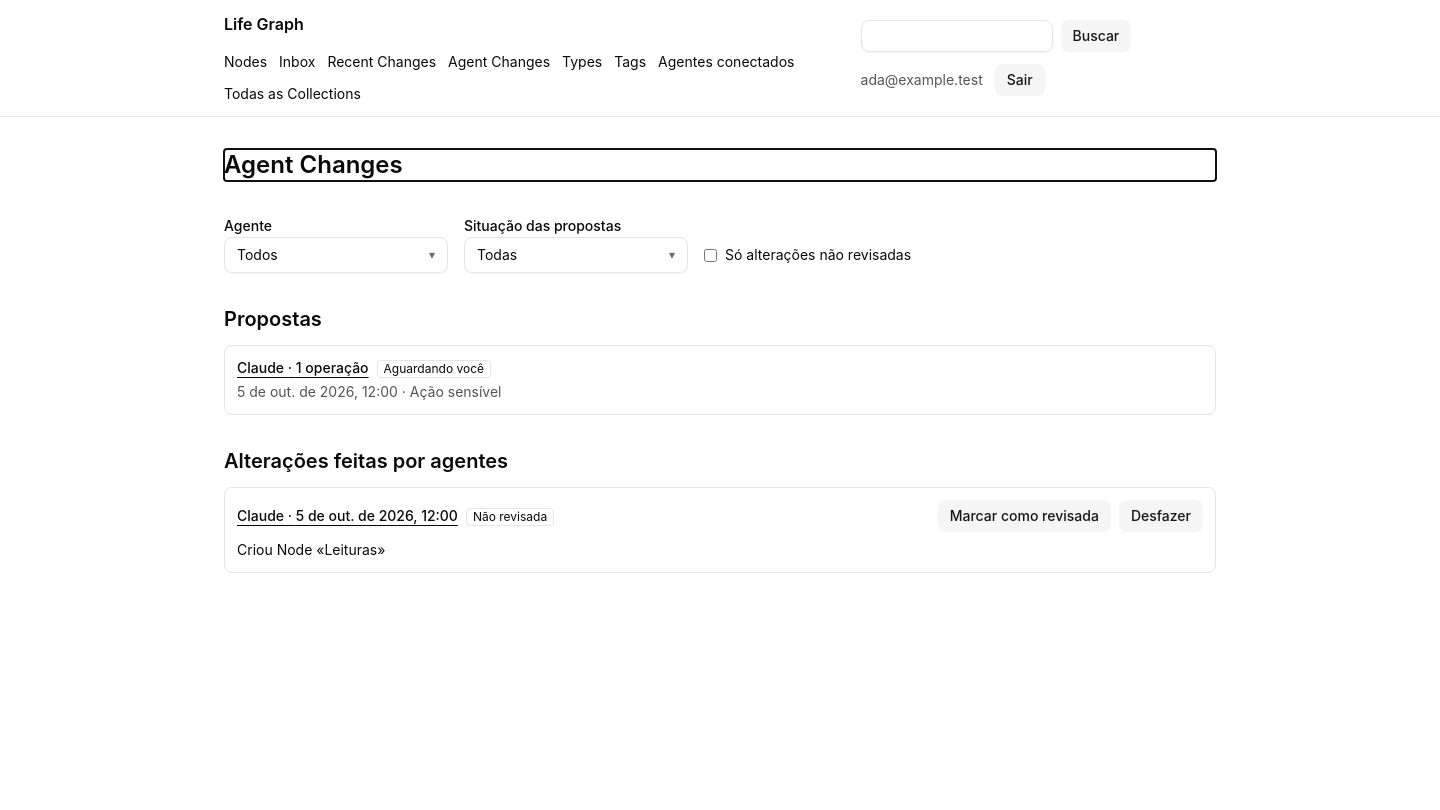
Test: Agent Changes › says on the card why its Undo was refused
Step 1. Click the button "Desfazer" → (1161, 516), box [1119,500,1203,532]
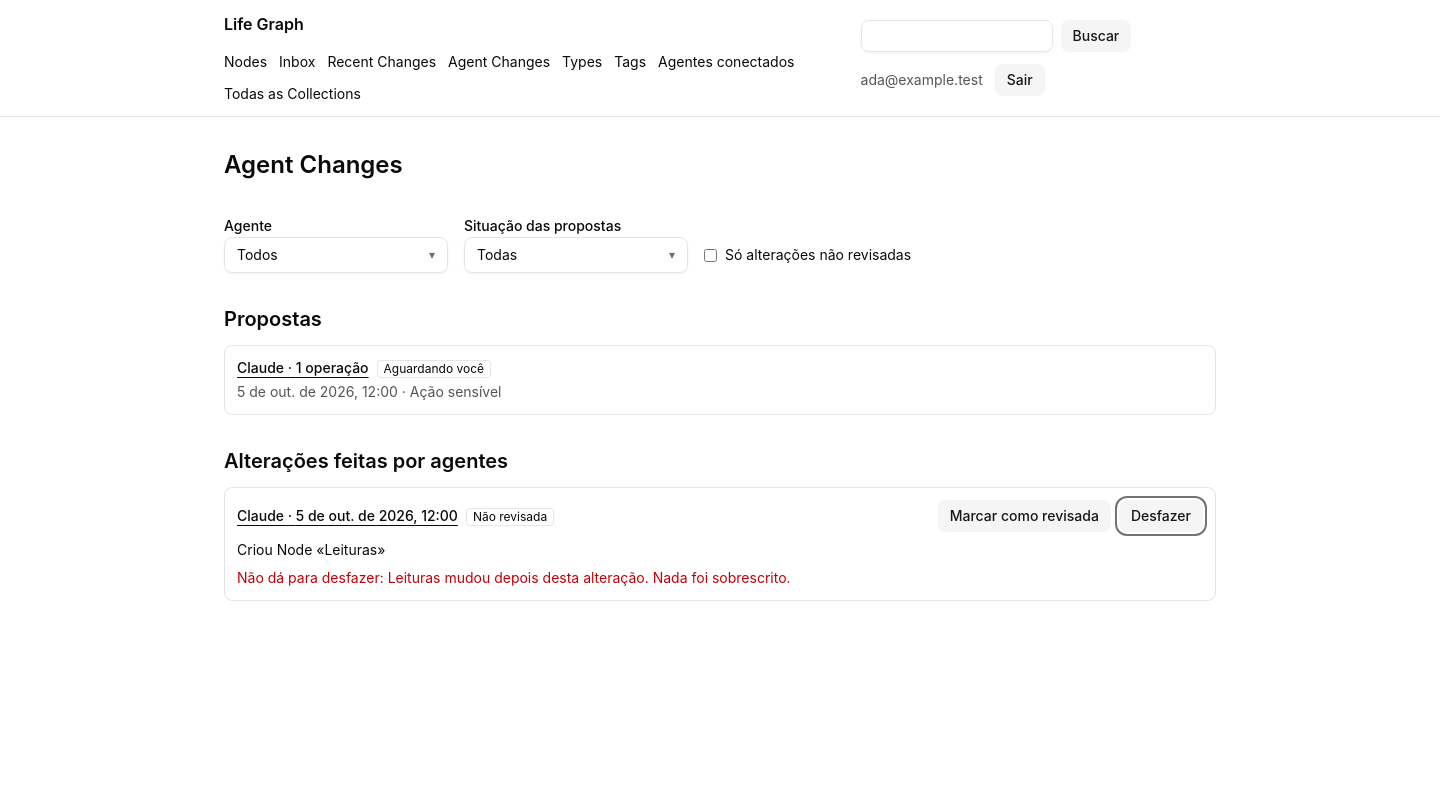
Expected: the message shows "Não dá para desfazer: Leituras mudou depois desta alteração. Nada foi sobrescrito.", [237,569,791,586]
